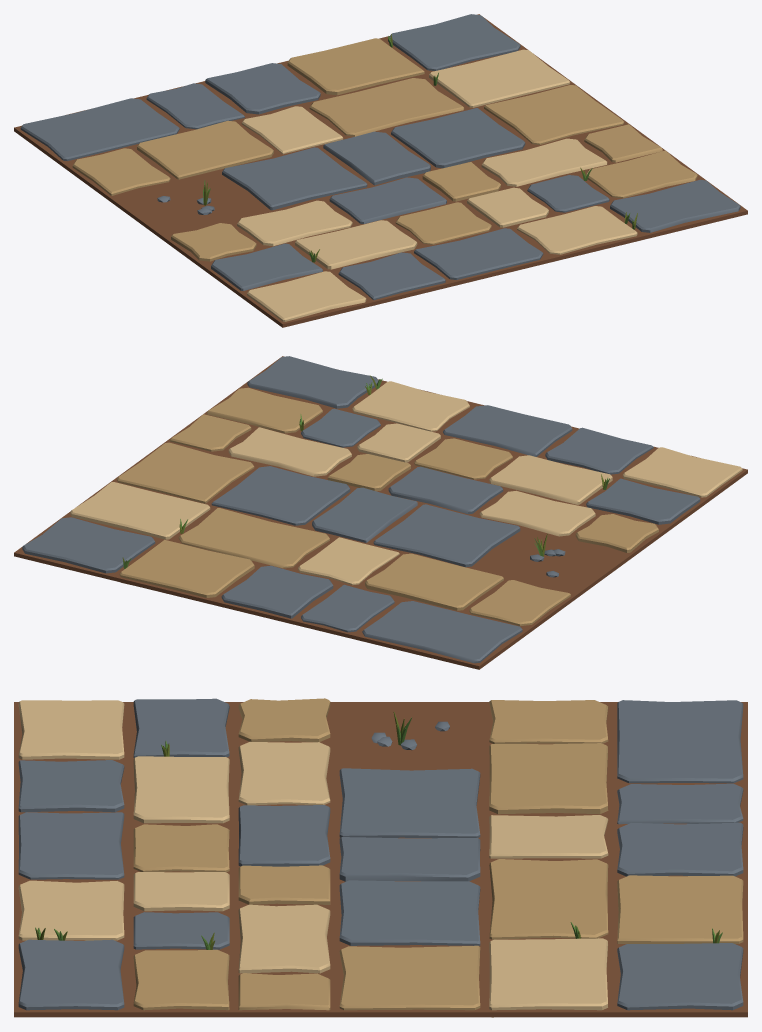
The model's file is deco_paving_slabs.fbx.
3 views of the same model, one above another, from view 1: azimuth 30°, elevation 25°; view 2: azimuth 150°, elevation 25°; view 3: azimuth 270°, elevation 25° (orthographic). The views are drawn at different scales.
Parts seen in each view (by area): view 1: Paving_Slabs_SlabsA, Paving_Slabs_SlabsB, Paving_Slabs_Bed, Paving_Slabs_Tufts; view 2: Paving_Slabs_SlabsA, Paving_Slabs_SlabsB, Paving_Slabs_Bed, Paving_Slabs_Tufts; view 3: Paving_Slabs_SlabsA, Paving_Slabs_SlabsB, Paving_Slabs_Bed, Paving_Slabs_Tufts.
Part boxes in pixels (left/top/right/bottom): Paving_Slabs_SlabsA: left=72, top=38, right=697, bottom=321; Paving_Slabs_SlabsB: left=20, top=14, right=740, bottom=300; Paving_Slabs_Bed: left=14, top=14, right=747, bottom=327; Paving_Slabs_Tufts: left=157, top=34, right=637, bottom=262; Paving_Slabs_SlabsA: left=70, top=381, right=742, bottom=626; Paving_Slabs_SlabsB: left=22, top=356, right=700, bottom=663; Paving_Slabs_Bed: left=14, top=356, right=747, bottom=669; Paving_Slabs_Tufts: left=122, top=375, right=609, bottom=577; Paving_Slabs_SlabsA: left=18, top=698, right=743, bottom=1017; Paving_Slabs_SlabsB: left=18, top=698, right=743, bottom=1010; Paving_Slabs_Bed: left=14, top=702, right=747, bottom=1017; Paving_Slabs_Tufts: left=35, top=712, right=722, bottom=949.
Bounding box in the file's own units: 400 × 23.37 × 400.
